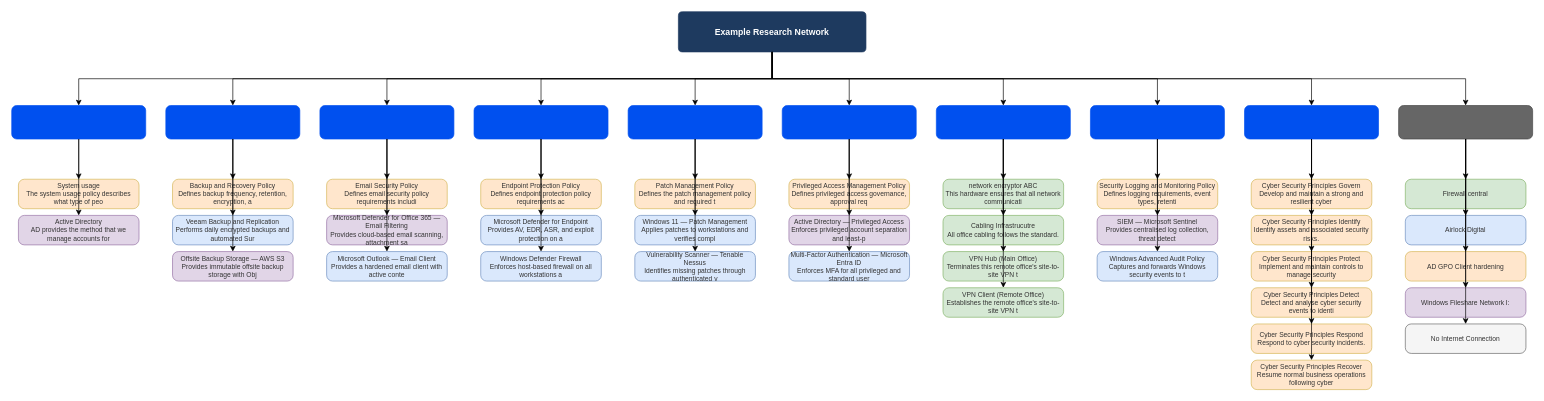
Image size: 1544x401. Some labels were removed from this diagram. The box of each missing label's shape, as (x1, y1, x2, y2) in pixels:
Account Management: (11, 105, 146, 139)
Backup and Recovery: (165, 105, 300, 139)
Cyber Security Principles: (1244, 105, 1379, 139)
Email Security: (319, 105, 454, 139)
Endpoint Protection: (473, 105, 608, 139)
Patch Management: (627, 105, 762, 139)
Privileged Access Management: (782, 105, 916, 139)
Remote office: (936, 105, 1070, 139)
Security Monitoring and Logging: (1090, 105, 1224, 139)
Uncategorised Components: (1398, 105, 1533, 139)
